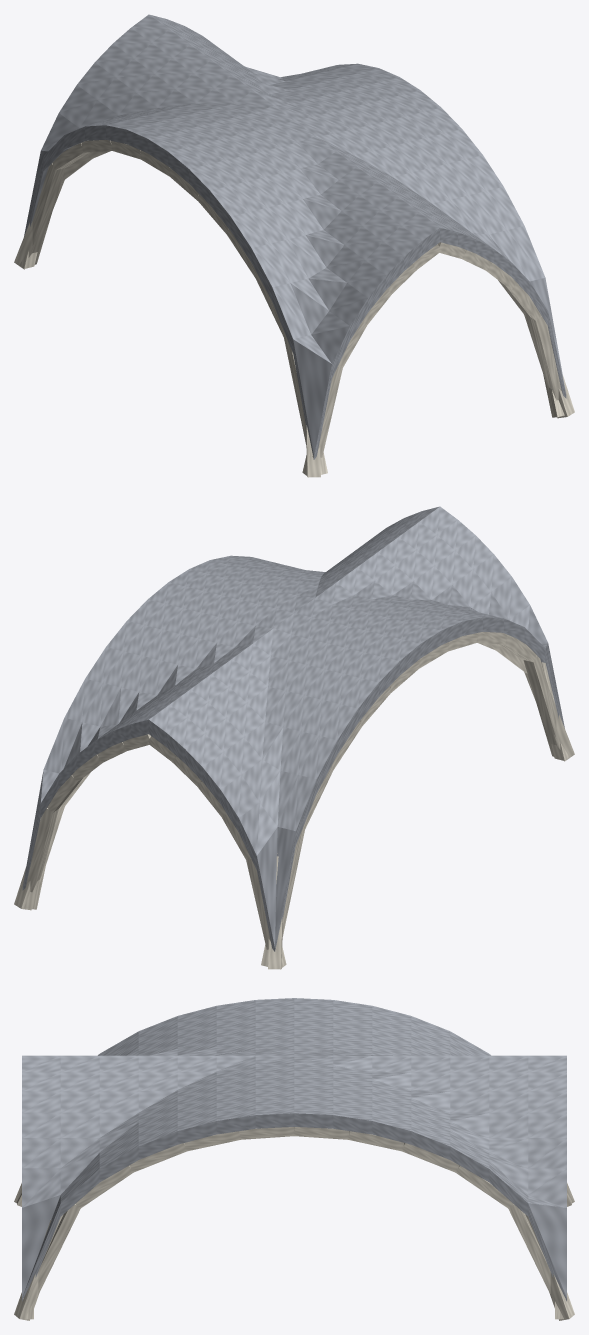
The model's file is vampire-crypt-and-gothic-cathedral-rib-vault-tile-nave-cf7b4e1b__22954.glb.
3 renders of one model, top to bottom at view 1: azimuth 30°, elevation 25°; view 2: azimuth 150°, elevation 25°; view 3: azimuth 270°, elevation 25°, orthographic. The views are drawn at different scales.
Visible parts, largest first — view 1: rib-vault-tile-nave; view 2: rib-vault-tile-nave; view 3: rib-vault-tile-nave.
Boxes of the visible parts, x1=… form: rib-vault-tile-nave: x1=14, y1=14, x2=574, y2=477; rib-vault-tile-nave: x1=14, y1=506, x2=574, y2=969; rib-vault-tile-nave: x1=14, y1=998, x2=574, y2=1320.
Bounding box in the file's own units: 4.24 × 3.34 × 8.23.
Materials: 3 (2 with a texture image).
